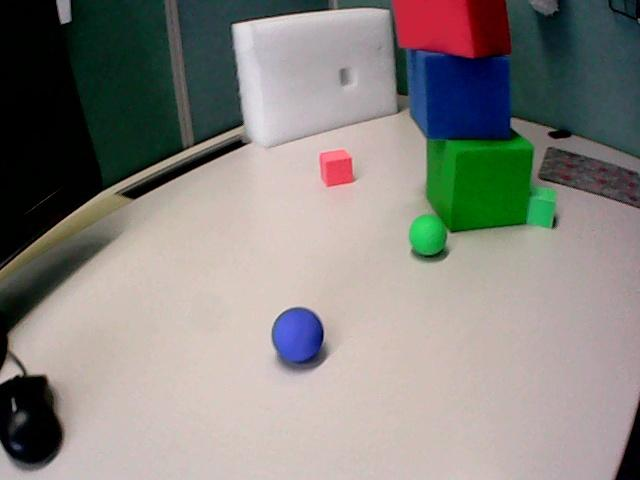blue_block: (406, 49, 510, 139), (405, 49, 426, 134)
red_block: (392, 0, 510, 57), (320, 149, 353, 186)
